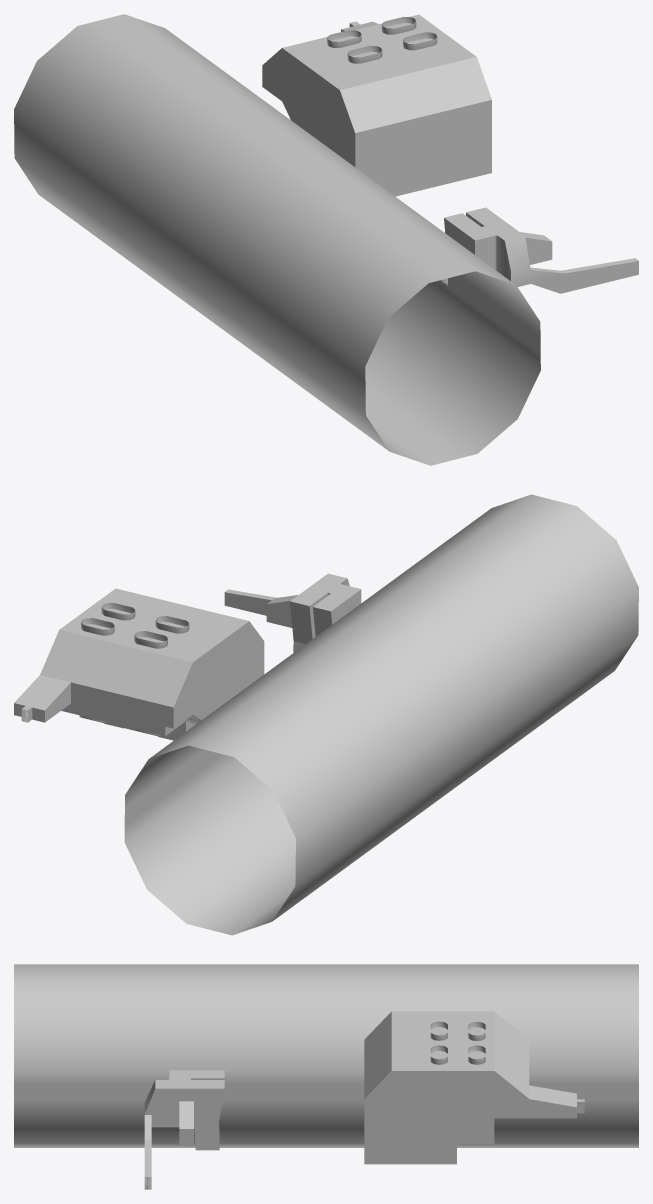
File: chamber-d.FBX
The picture shows the model from 3 angles, top to bottom: view 1: azimuth 30°, elevation 25°; view 2: azimuth 150°, elevation 25°; view 3: azimuth 270°, elevation 25°; orthographic projection. The views are drawn at different scales.
Visible parts, largest first — view 1: ChamberD, ColumnsD; view 2: ChamberD, ColumnsD; view 3: ChamberD, ColumnsD.
Part boxes in pixels (x1,y1,x2,y2): ChamberD: (14, 14, 638, 465); ColumnsD: (327, 17, 437, 63); ChamberD: (14, 494, 638, 935); ColumnsD: (81, 603, 189, 740); ChamberD: (14, 964, 638, 1176); ColumnsD: (430, 1021, 485, 1064).
Size of the model in its own units: 104 by 56.53 by 183.
